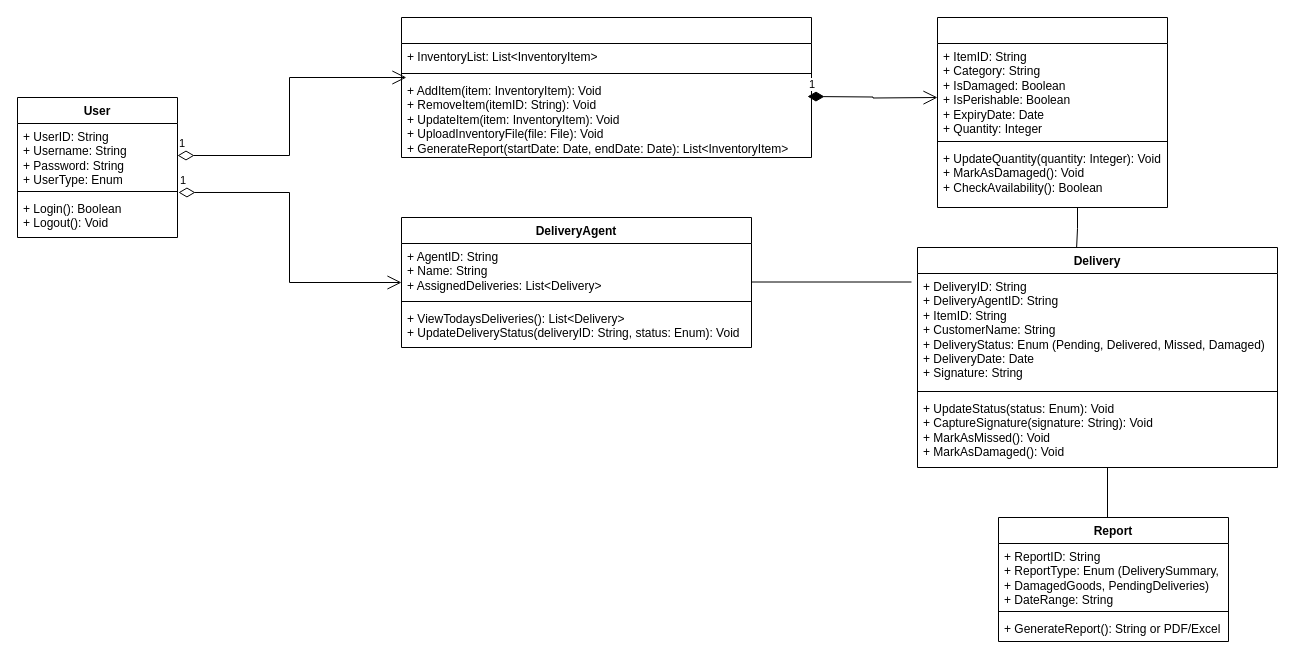
Image size: 1295x662. Some labels were removed from this diagram. Each missing label, with the box of its shape:
InventoryItem: (936, 16, 1168, 208)
InventoryManagement: (400, 16, 812, 158)
